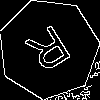R: (23, 23, 78, 82)
